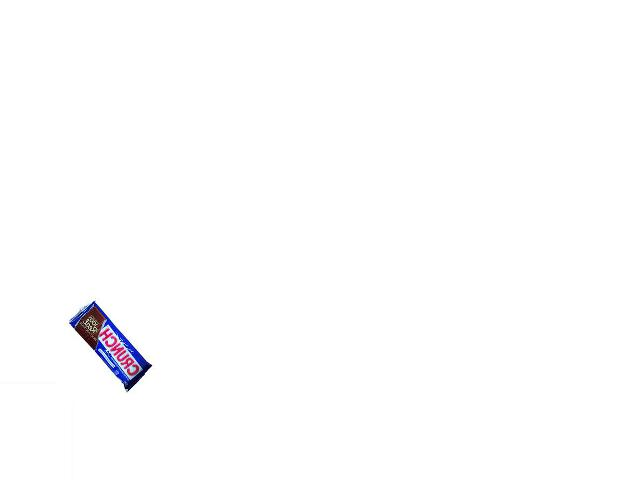chocolate: (67, 298, 152, 393)
